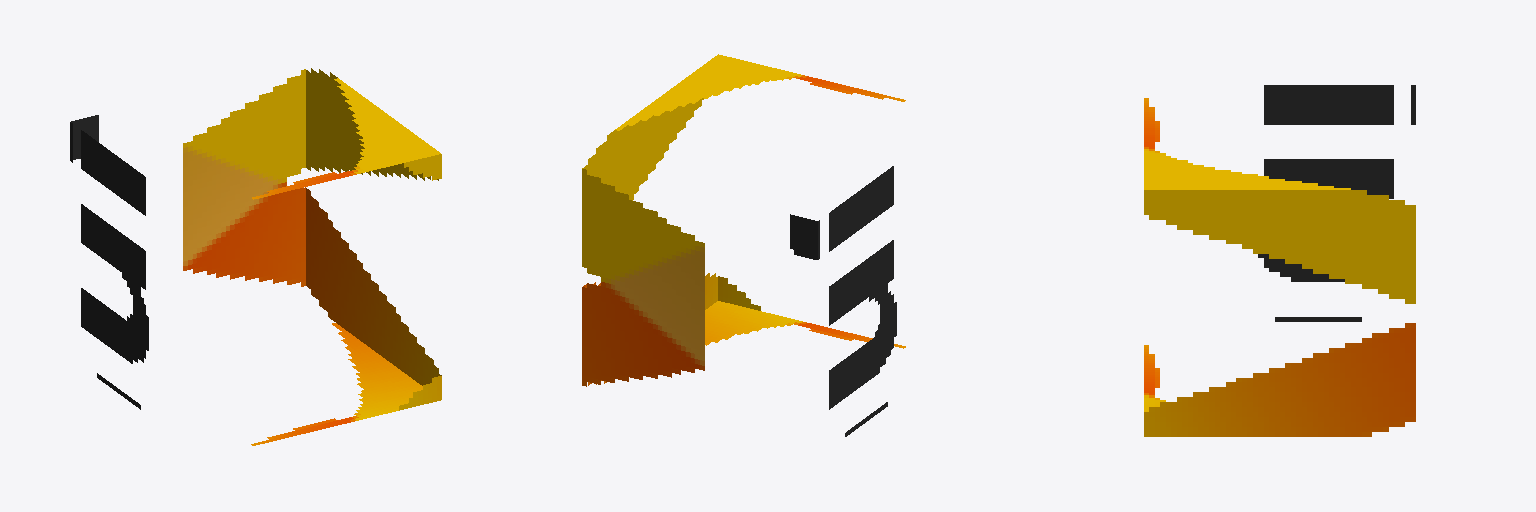
3 renders of one model, left to right at view 1: azimuth 30°, elevation 25°; view 2: azimuth 150°, elevation 25°; view 3: azimuth 270°, elevation 25°, orthographic.
Parts seen in each view (by area): view 1: Cube_Material; view 2: Cube_Material; view 3: Cube_Material.
Boxes of the visible parts, x1,y1,x2,y2 form: Cube_Material: [70, 68, 441, 445]; Cube_Material: [582, 54, 905, 436]; Cube_Material: [1144, 85, 1415, 436].
Bounding box in the file's own units: 2 × 2 × 2.
Materials: 1 (1 with a texture image).